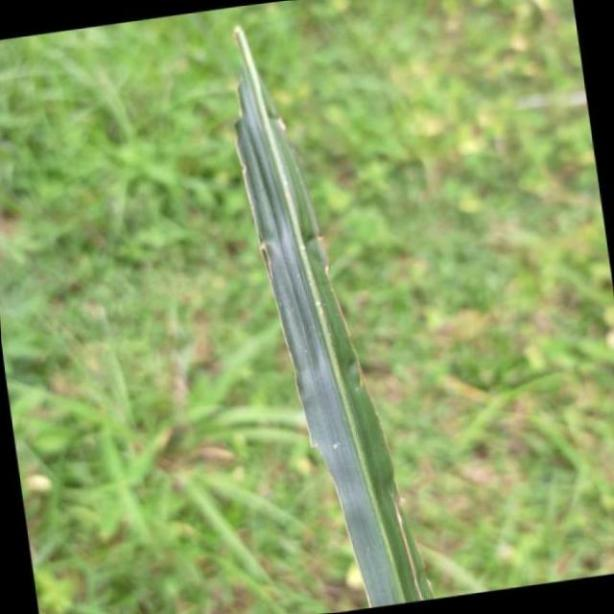Boron: (210, 21, 434, 612)
